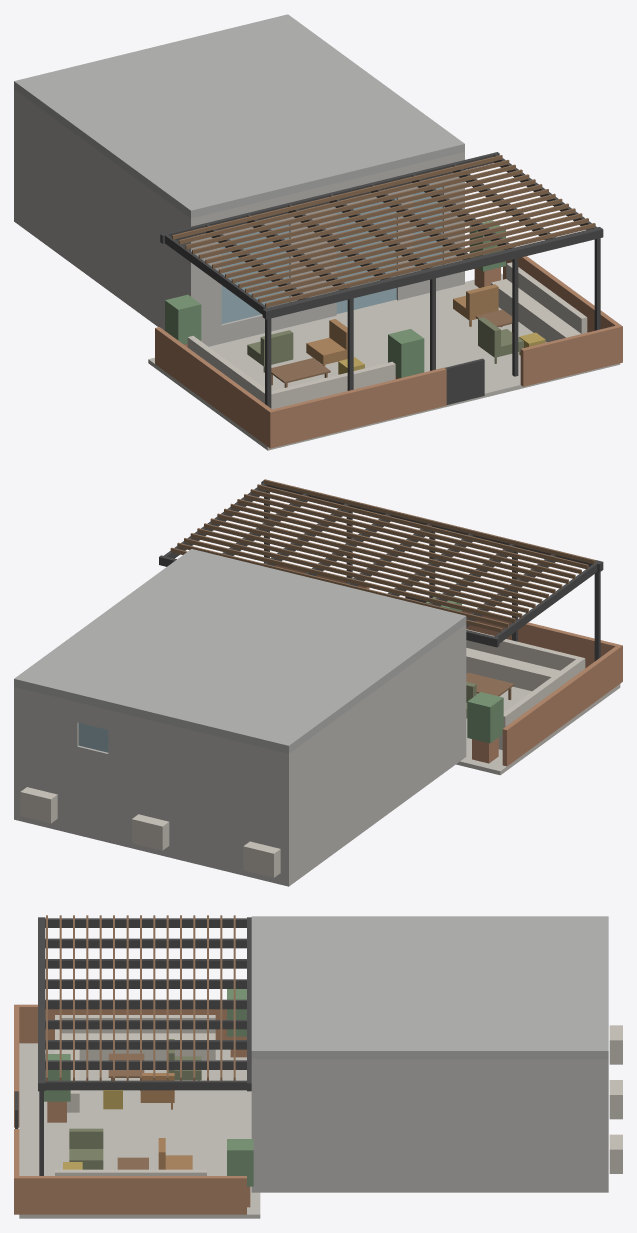
The model's file is NANDJUI_V8.glb.
3 renders of one model, top to bottom at view 1: azimuth 30°, elevation 25°; view 2: azimuth 150°, elevation 25°; view 3: azimuth 270°, elevation 25°, orthographic.
Parts seen in each view (by area): view 1: IfcSlab_410, IfcMember_2646, IfcWall_98, IfcSlab_2217, IfcWall_202, IfcWall_2238, IfcWall_2279, IfcBeam_2606, IfcWall_2259, IfcFurniture_2806, IfcFurniture_2764, IfcWindow_264 (+16 smaller); view 2: IfcSlab_410, IfcWall_140, IfcMember_2646, IfcWall_98, IfcFurniture_2764, IfcWall_2279, IfcWall_2238, IfcGeographicElement_3157, IfcSlab_2217, IfcBeam_2426, IfcUnitaryEquipment_3338, IfcUnitaryEquipment_3378 (+8 smaller); view 3: IfcSlab_410, IfcWall_120, IfcSlab_2217, IfcWall_2279, IfcMember_2646, IfcFurniture_2764, IfcBeam_2586, IfcBeam_2446, IfcBeam_2506, IfcBeam_2426, IfcBeam_2466, IfcBeam_2546 (+23 smaller).
Part boxes in pixels (<box>): IfcSlab_410: <box>14,14,464,218</box>; IfcMember_2646: <box>172,155,595,307</box>; IfcWall_98: <box>14,89,198,330</box>; IfcSlab_2217: <box>148,273,620,450</box>; IfcWall_202: <box>187,152,464,346</box>; IfcWall_2238: <box>267,367,446,448</box>; IfcWall_2279: <box>155,256,619,446</box>; IfcBeam_2606: <box>262,227,603,319</box>; IfcWall_2259: <box>520,324,622,386</box>; IfcFurniture_2806: <box>491,262,587,342</box>; IfcFurniture_2764: <box>187,335,395,409</box>; IfcWindow_264: <box>221,224,289,323</box>; IfcSlab_410: <box>14,549,466,753</box>; IfcWall_140: <box>14,687,293,886</box>; IfcMember_2646: <box>170,479,595,632</box>; IfcWall_98: <box>281,627,466,886</box>; IfcFurniture_2764: <box>466,629,585,749</box>; IfcWall_2279: <box>502,646,620,766</box>; IfcWall_2238: <box>462,610,622,683</box>; IfcGeographicElement_3157: <box>467,692,503,743</box>; IfcSlab_2217: <box>456,684,620,775</box>; IfcBeam_2426: <box>494,561,598,643</box>; IfcUnitaryEquipment_3338: <box>243,841,280,877</box>; IfcUnitaryEquipment_3378: <box>20,787,57,823</box>; IfcSlab_410: <box>251,916,608,1059</box>; IfcWall_120: <box>251,1059,608,1192</box>; IfcSlab_2217: <box>19,1043,260,1218</box>; IfcWall_2279: <box>19,1004,246,1214</box>; IfcMember_2646: <box>46,915,235,1081</box>; IfcFurniture_2764: <box>55,1015,215,1112</box>; IfcBeam_2586: <box>39,1080,246,1090</box>; IfcBeam_2446: <box>39,938,246,948</box>; IfcBeam_2506: <box>39,999,246,1009</box>; IfcBeam_2426: <box>39,918,246,927</box>; IfcBeam_2466: <box>39,959,246,968</box>; IfcBeam_2546: <box>39,1040,246,1049</box>.
Size of the model in its own units: 9.2 by 3.65 by 13.64.
